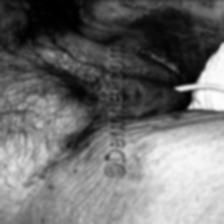Non-Cancerous Skin Condition: (33, 0, 223, 56)
